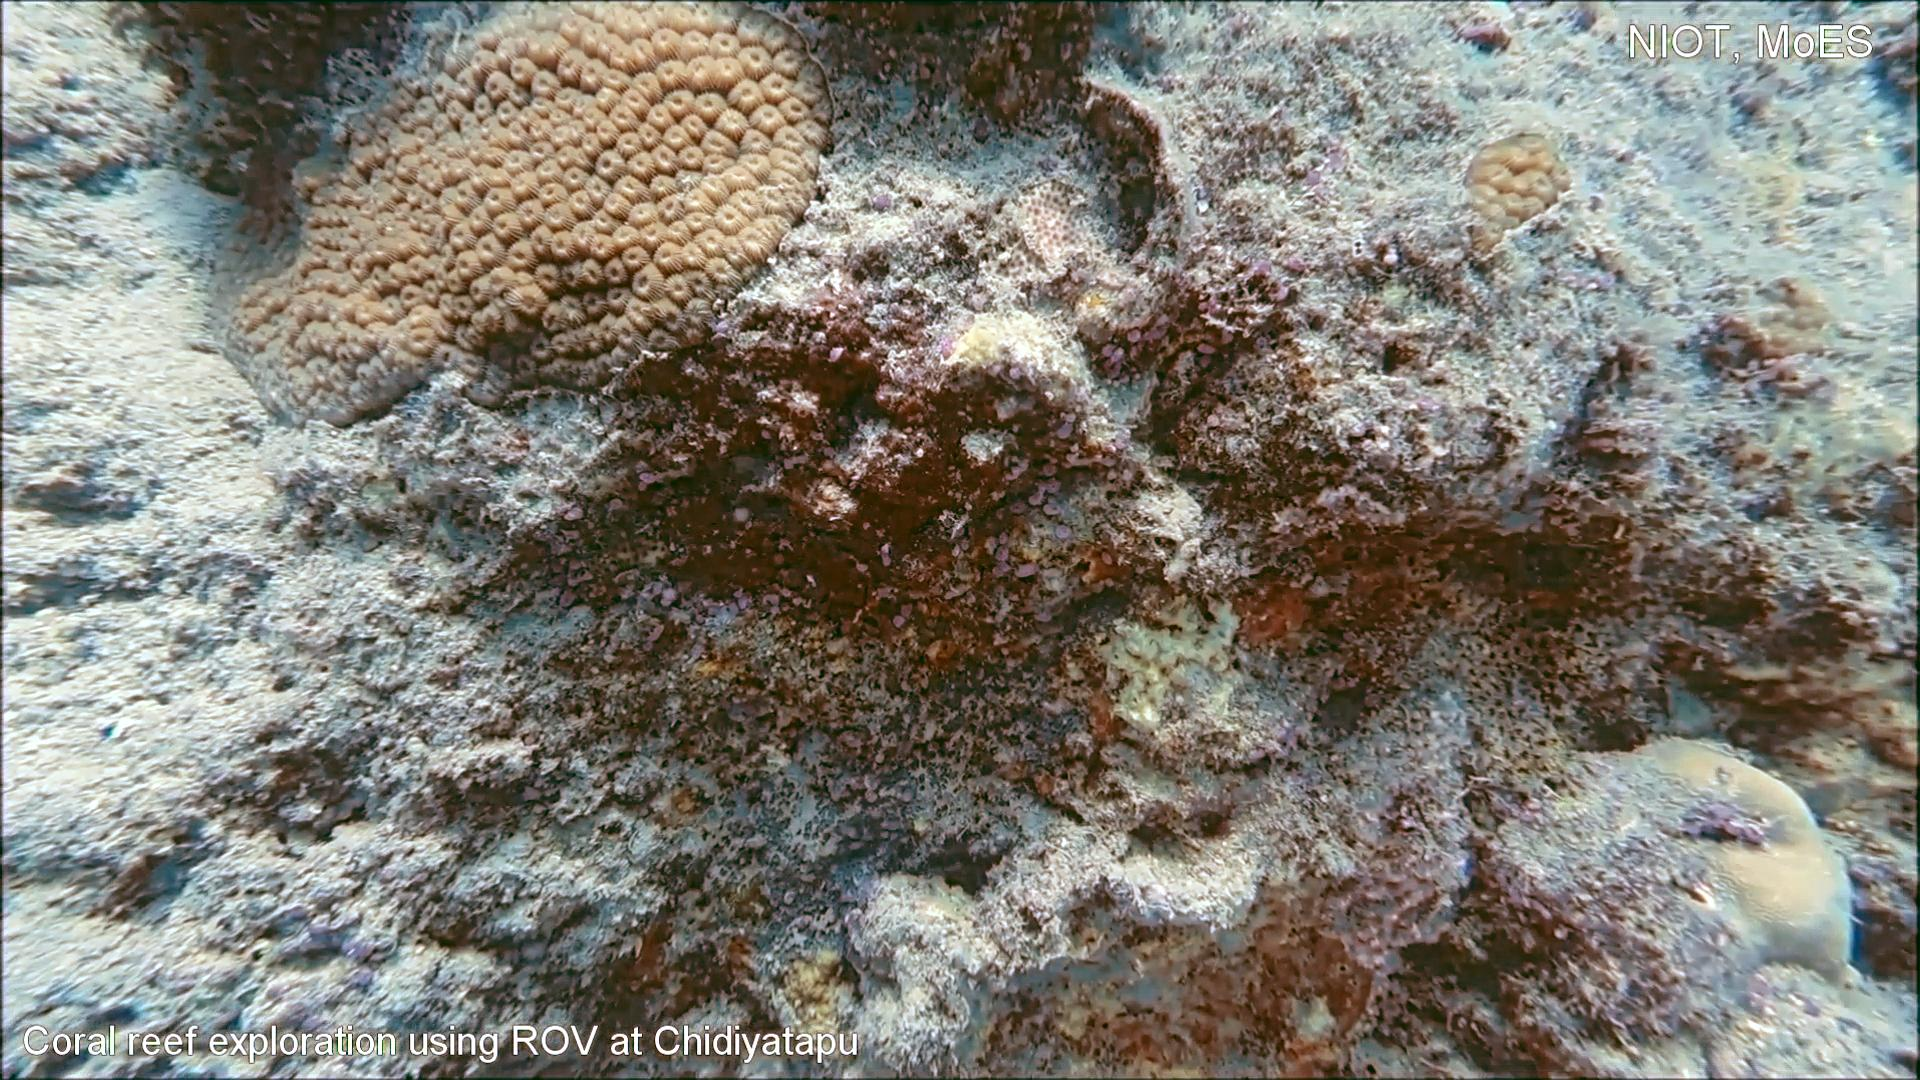Montastraea: (208, 0, 843, 433), (1456, 127, 1582, 270)
